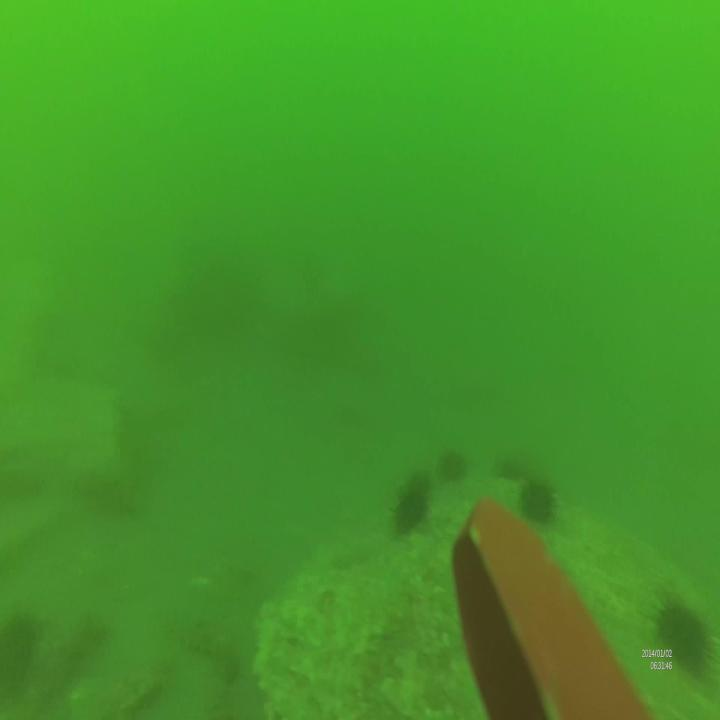echinus: (656, 590, 719, 685), (391, 470, 434, 534), (519, 475, 559, 522), (438, 446, 467, 487)
